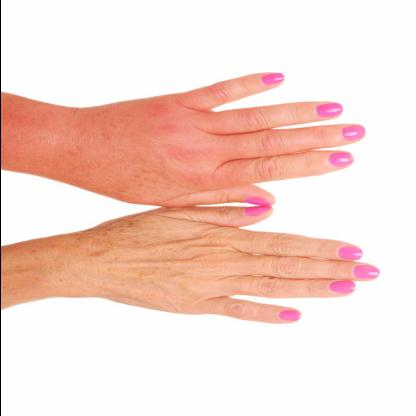Wasp: (66, 102, 230, 191)
